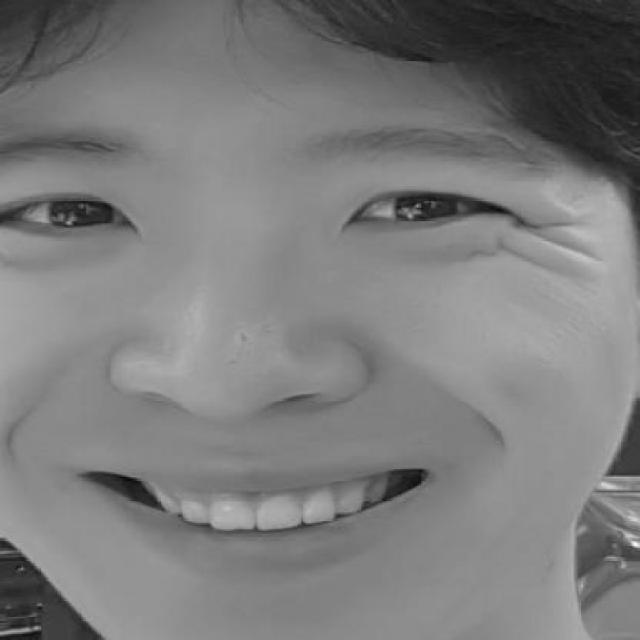Happy: (0, 106, 568, 579)
